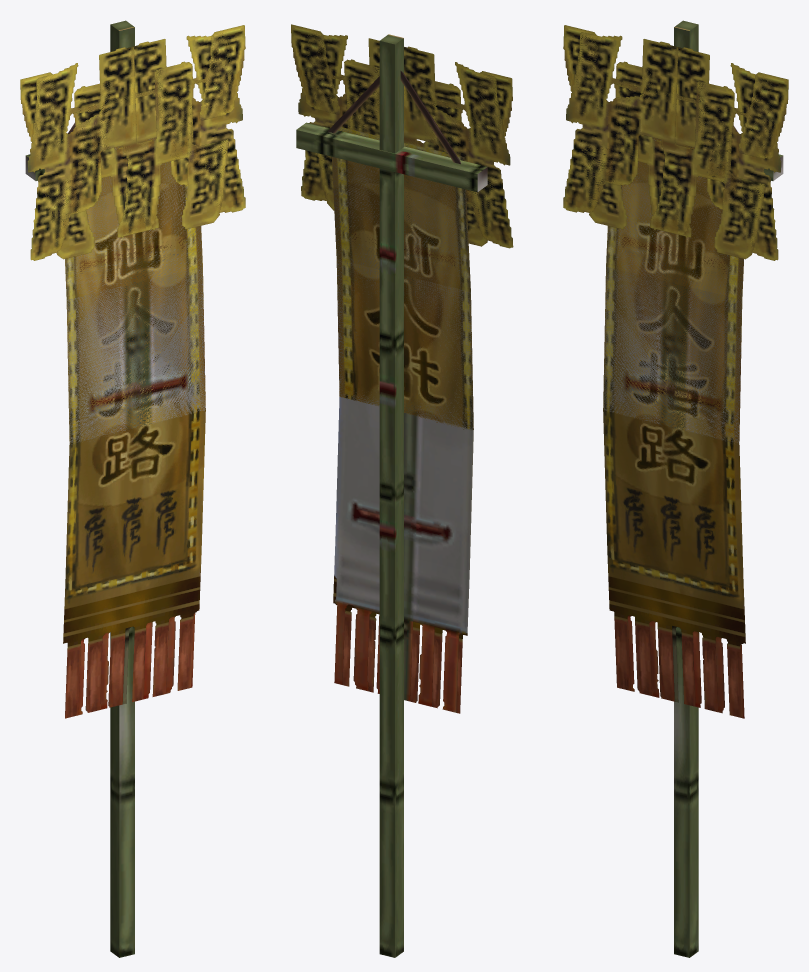
File: старец .fbx
3 renders of one model, left to right at view 1: azimuth 30°, elevation 25°; view 2: azimuth 150°, elevation 25°; view 3: azimuth 330°, elevation 25°, orthographic.
Parts seen in each view (by area): view 1: ElementClient-1bbfac30.obj; view 2: ElementClient-1bbfac30.obj; view 3: ElementClient-1bbfac30.obj.
Boxes of the visible parts, bbox=[...] form: ElementClient-1bbfac30.obj: bbox=[20, 20, 245, 957]; ElementClient-1bbfac30.obj: bbox=[291, 24, 513, 957]; ElementClient-1bbfac30.obj: bbox=[563, 20, 788, 957].
Bounding box in the file's own units: 56.84 × 213 × 8.8.
1 material, 1 textured.
